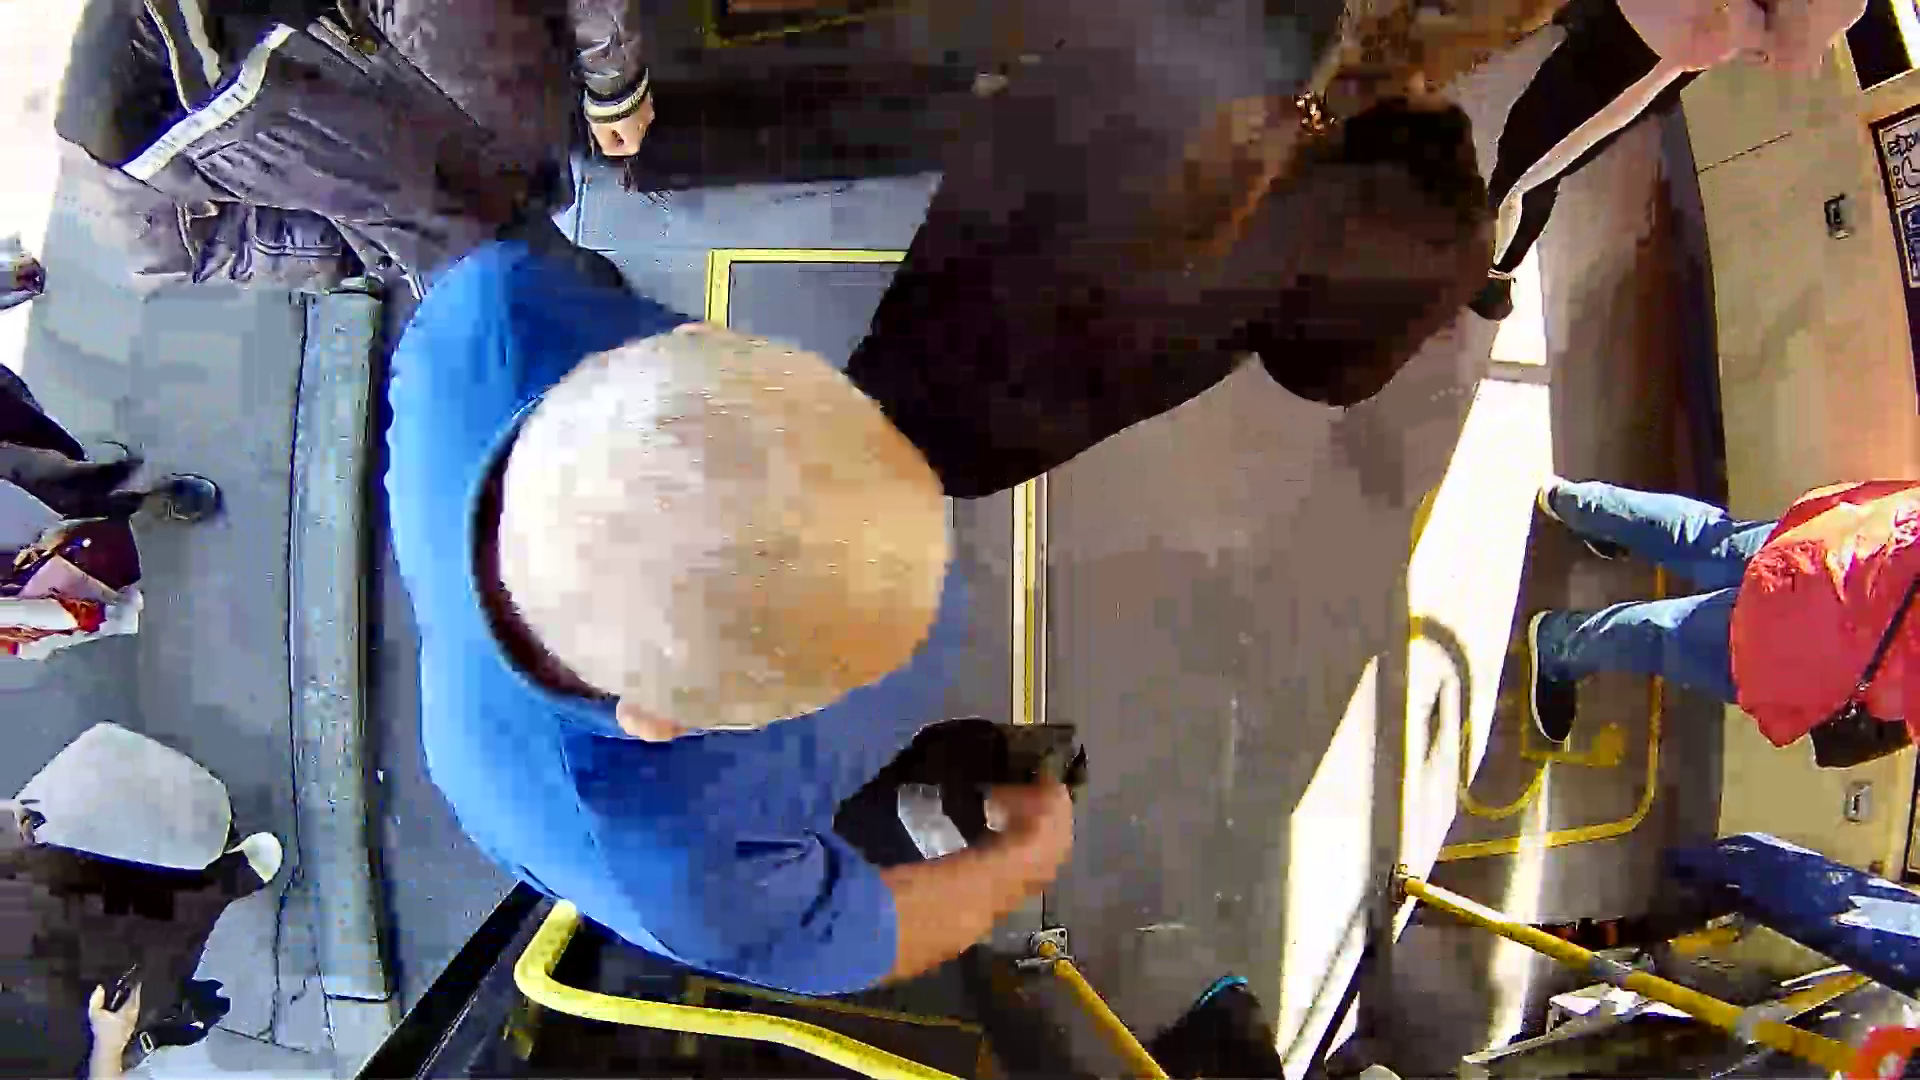person: (301, 190, 1273, 1009), (824, 20, 1616, 577)
